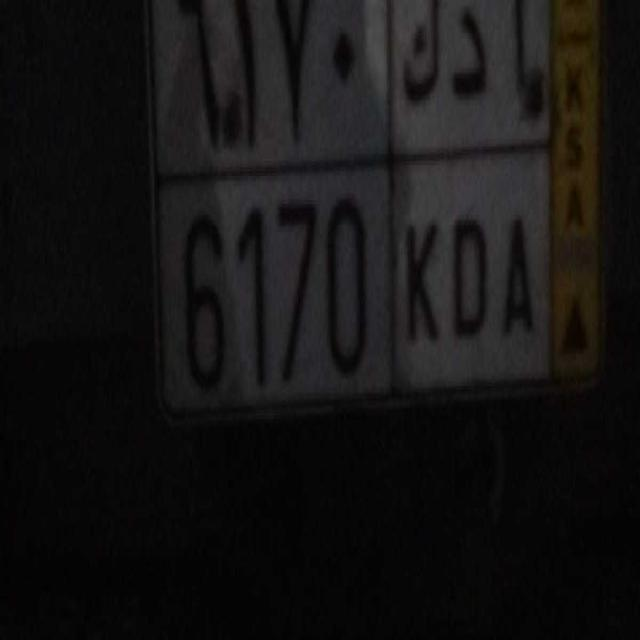license_plate: (152, 155, 554, 415)
